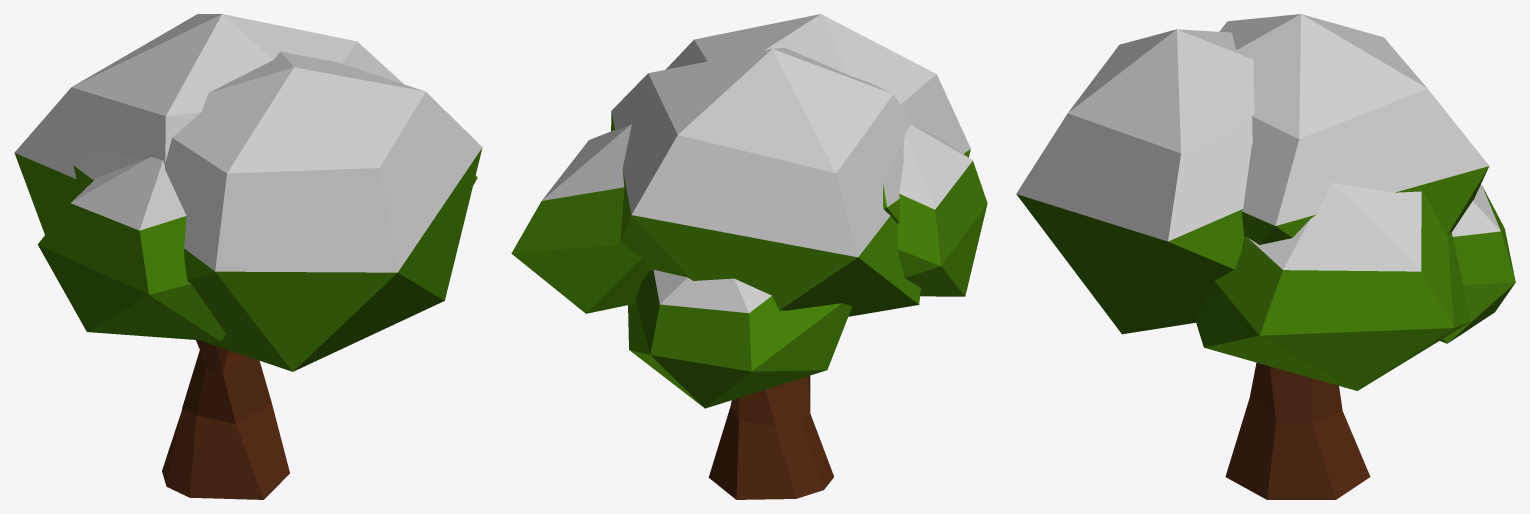
The model's file is OakTree3PartialSnow.fbx.
3 renders of one model, left to right at view 1: azimuth 30°, elevation 25°; view 2: azimuth 150°, elevation 25°; view 3: azimuth 270°, elevation 25°, orthographic. The views are drawn at different scales.
Visible parts, largest first — view 1: Icosphere; view 2: Icosphere; view 3: Icosphere.
Part boxes in pixels (x1,y1,x2,y2): Icosphere: (14, 14, 482, 499); Icosphere: (511, 14, 987, 499); Icosphere: (1016, 14, 1515, 499).
Size of the model in its own units: 8.59 by 9.03 by 8.87.
